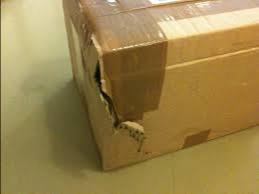damage_box: (59, 0, 258, 171)
